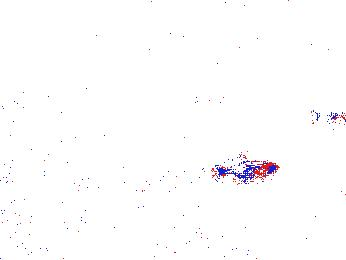X-ray fish: (100, 215, 138, 256), (253, 54, 285, 82)
red belly glassfish: (207, 157, 282, 181), (309, 109, 346, 133)
